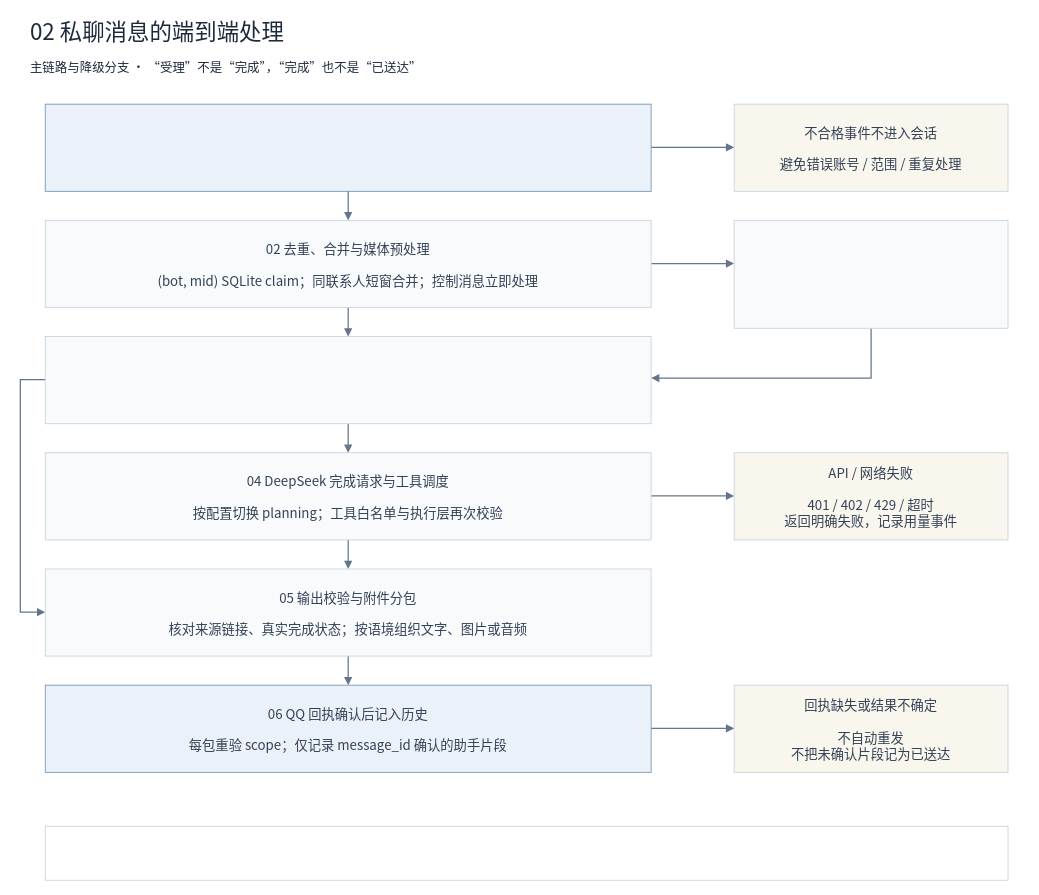
Some shapes in this 1039 by 895 pixel diagram are drawn without their labels. The shapes that lost their labels are listed below. From the top down, each one's box as (x1, y1, x2, y2) in pixels, then its label:
(44, 103, 651, 191): 01 传输身份与事件验收 启用状态、bot / epoch、私聊好友、白名单、message_id
(733, 220, 1008, 328): 媒体处理或降级 语音：CPU ASR 子进程 图片 / 视频：视觉与有界抽帧 失败如实说明，不编造内容
(44, 336, 651, 424): 03 会话准备与明确意图分流 授权回复 / 任务进度 / 余额等专门路径；其他请求装配上下文
(44, 825, 1008, 880): 分支语义 语音输入不自动要求语音输出；后台创作的受理与送达详见图 04。
